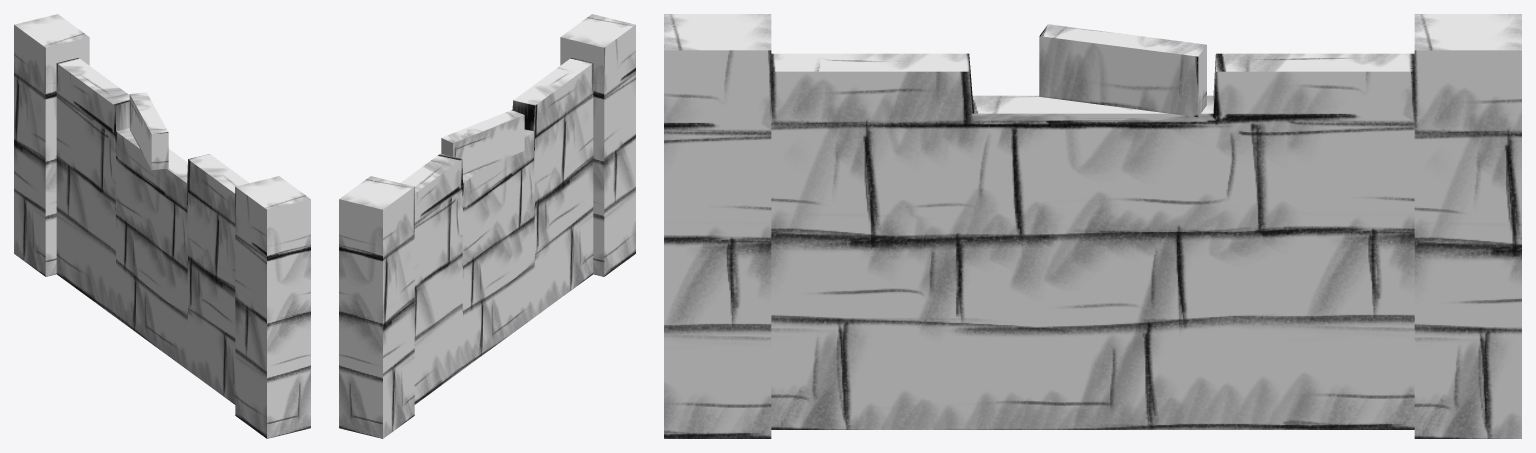
Rendered from Fence.fbx.
3 views of the same model, side by side, from view 1: azimuth 30°, elevation 25°; view 2: azimuth 150°, elevation 25°; view 3: azimuth 270°, elevation 25° (orthographic). The views are drawn at different scales.
Parts seen in each view (by area): view 1: Fence; view 2: Fence; view 3: Fence.
Boxes of the visible parts, <box> form: Fence: <box>14,14,310,438</box>; Fence: <box>339,14,635,438</box>; Fence: <box>664,14,1521,438</box>.
Size of the model in its own units: 41.84 by 200 by 400.
